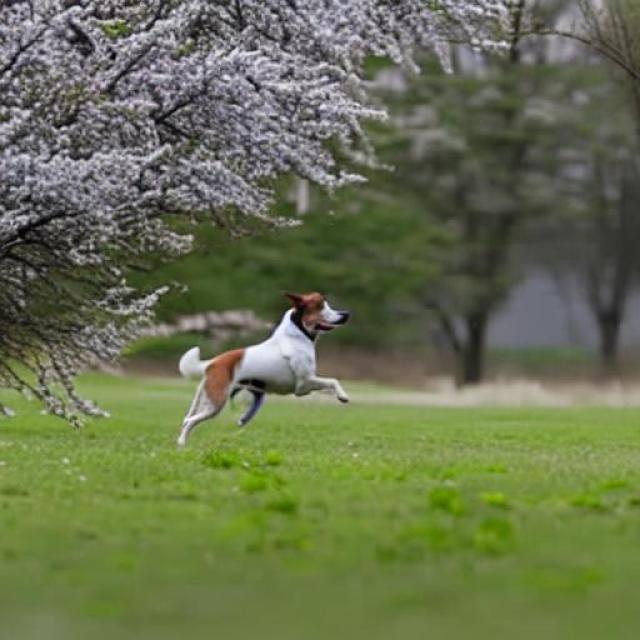Dog: (178, 289, 350, 445)
